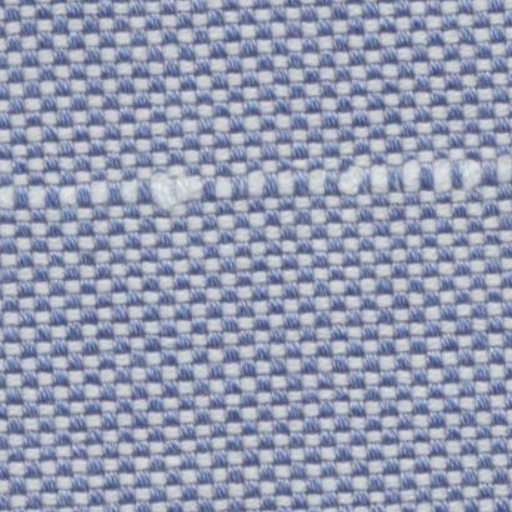DaiSha: (12, 152, 500, 214)
